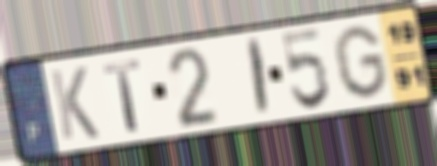2: (166, 45, 222, 132)
5: (279, 24, 333, 113)
G: (331, 23, 392, 102)
I: (247, 36, 271, 120)
K: (47, 64, 102, 143)
T: (100, 56, 144, 135)
